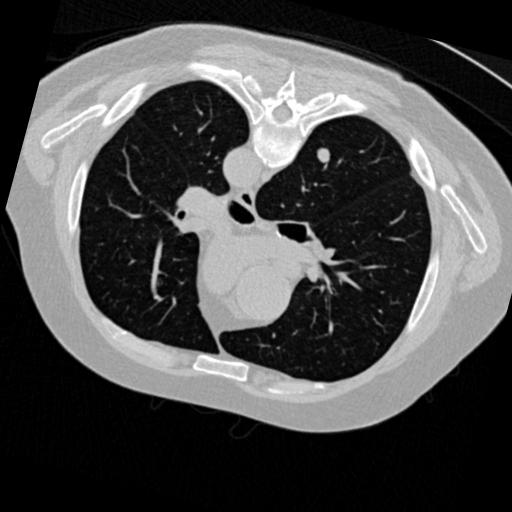nodule: (313, 144, 336, 167)
